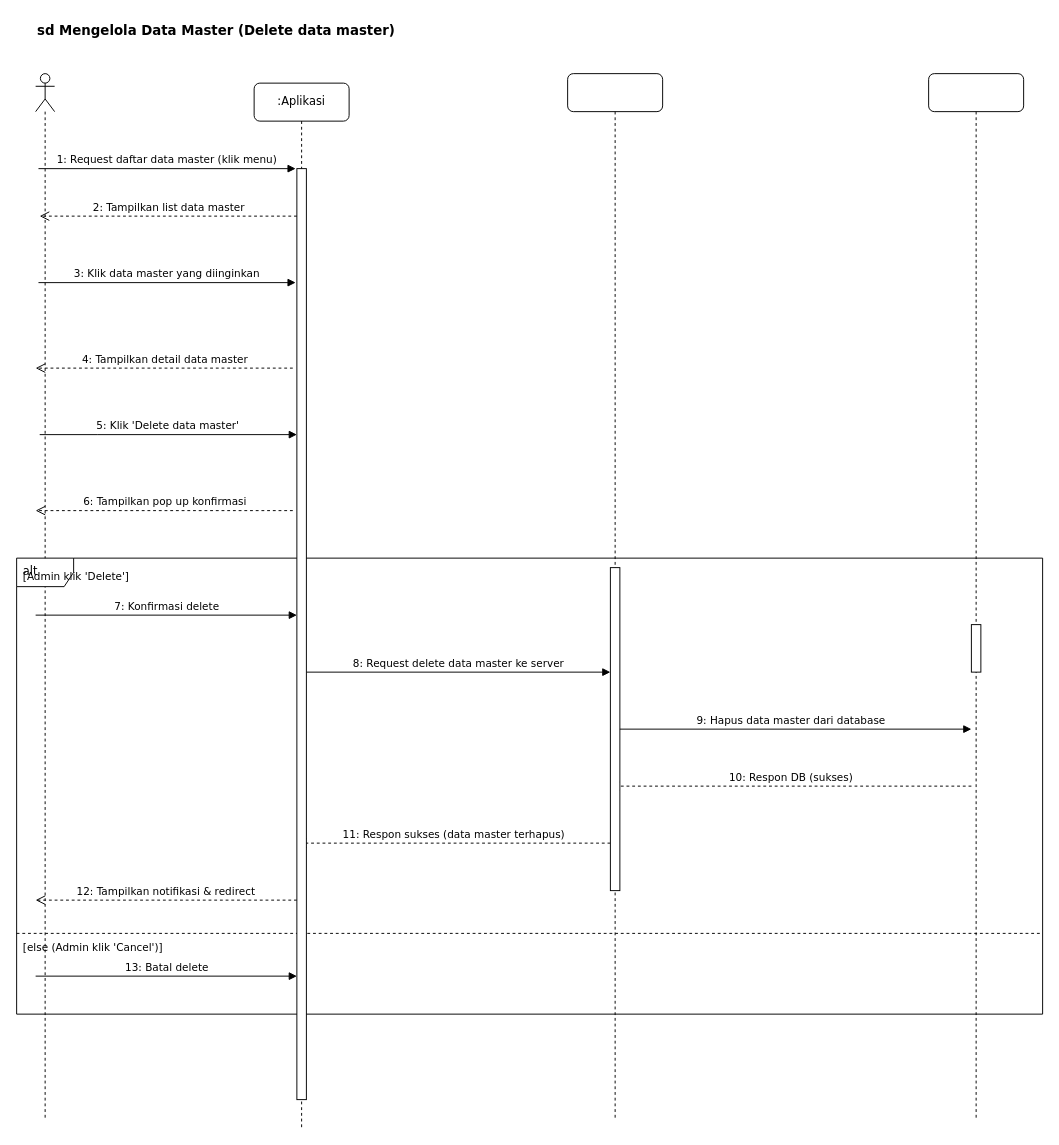
Image size: 1059x1145. Some labels were removed from this diagram. Each missing label, with the centre of its shape:
:Database: the point at 976,596
:Server: the point at 615,596
